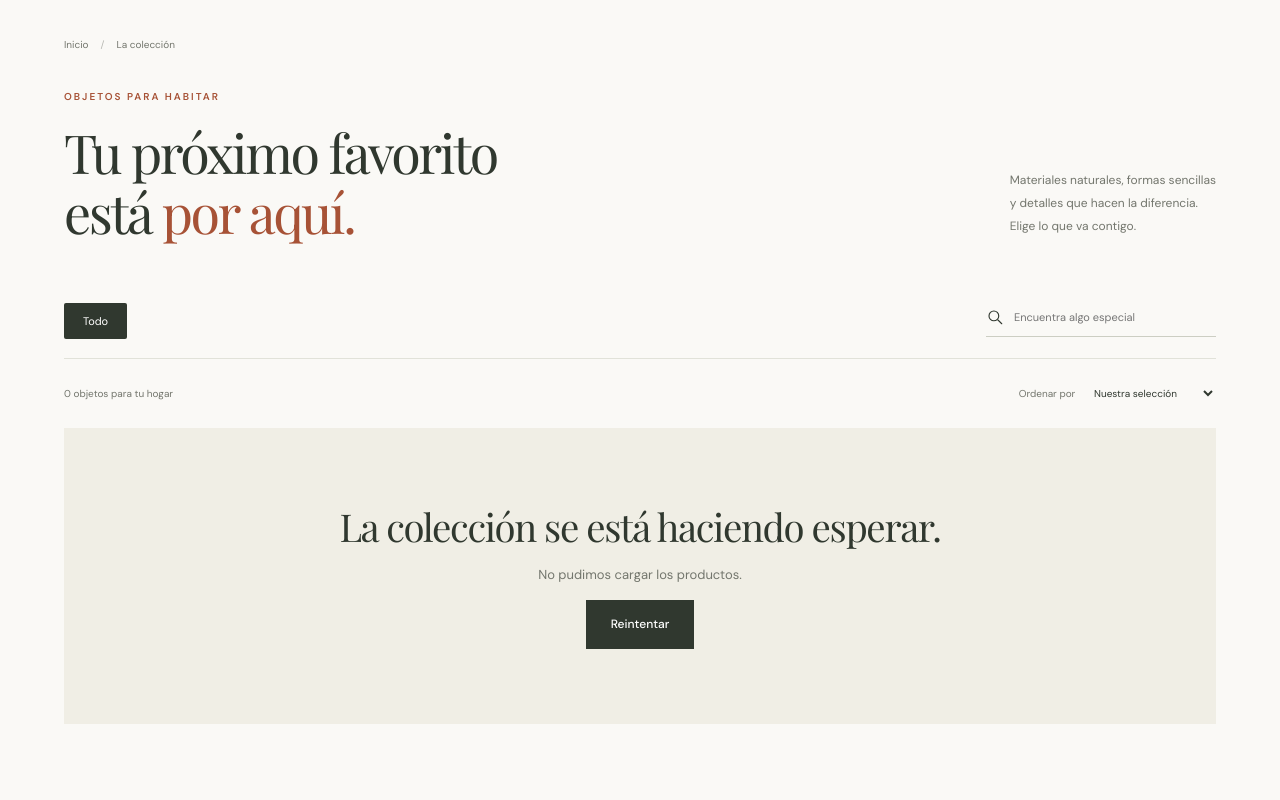
it: supports retry after a failed page request
The width and height of the screenshot is (1280, 800).
Click the button "Reintentar" at (640, 624), box 586,600 -> 694,649
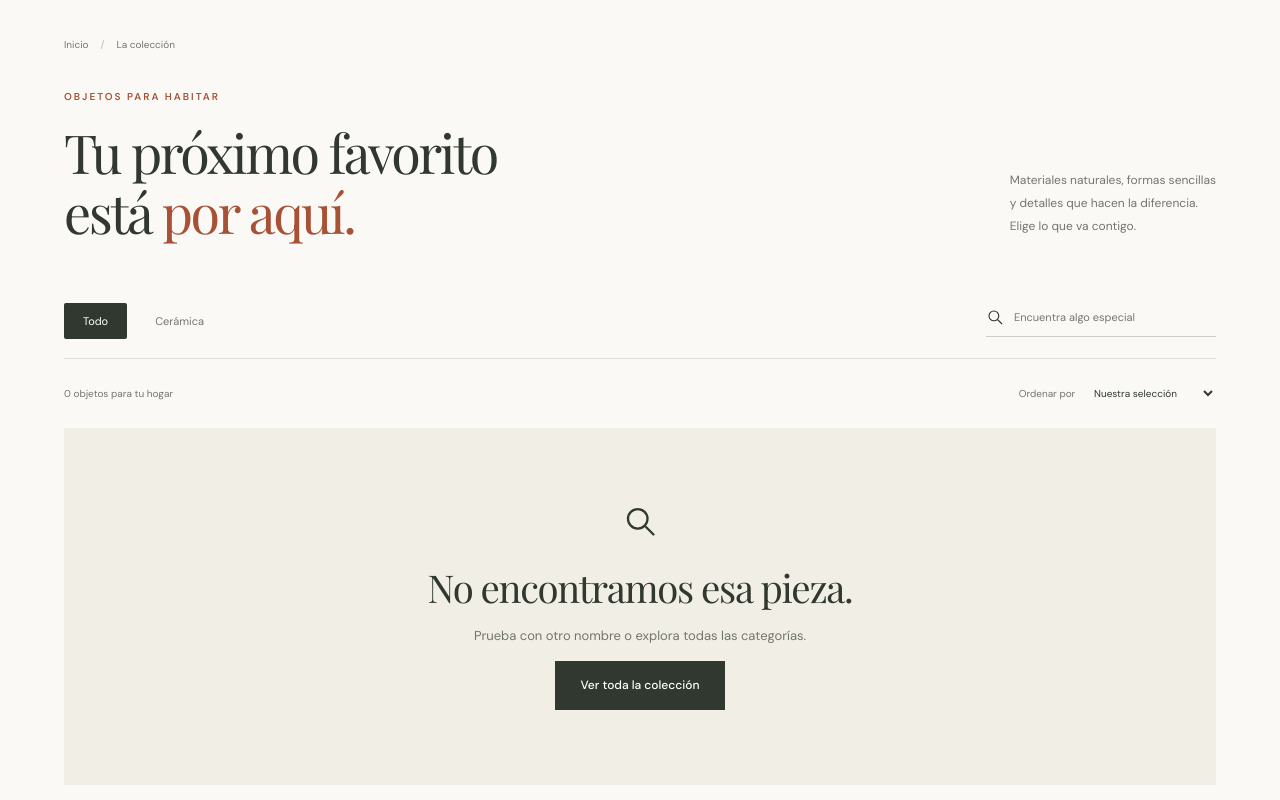
Now the heading "No encontramos esa pieza." is shown, box 428,561 -> 852,613
